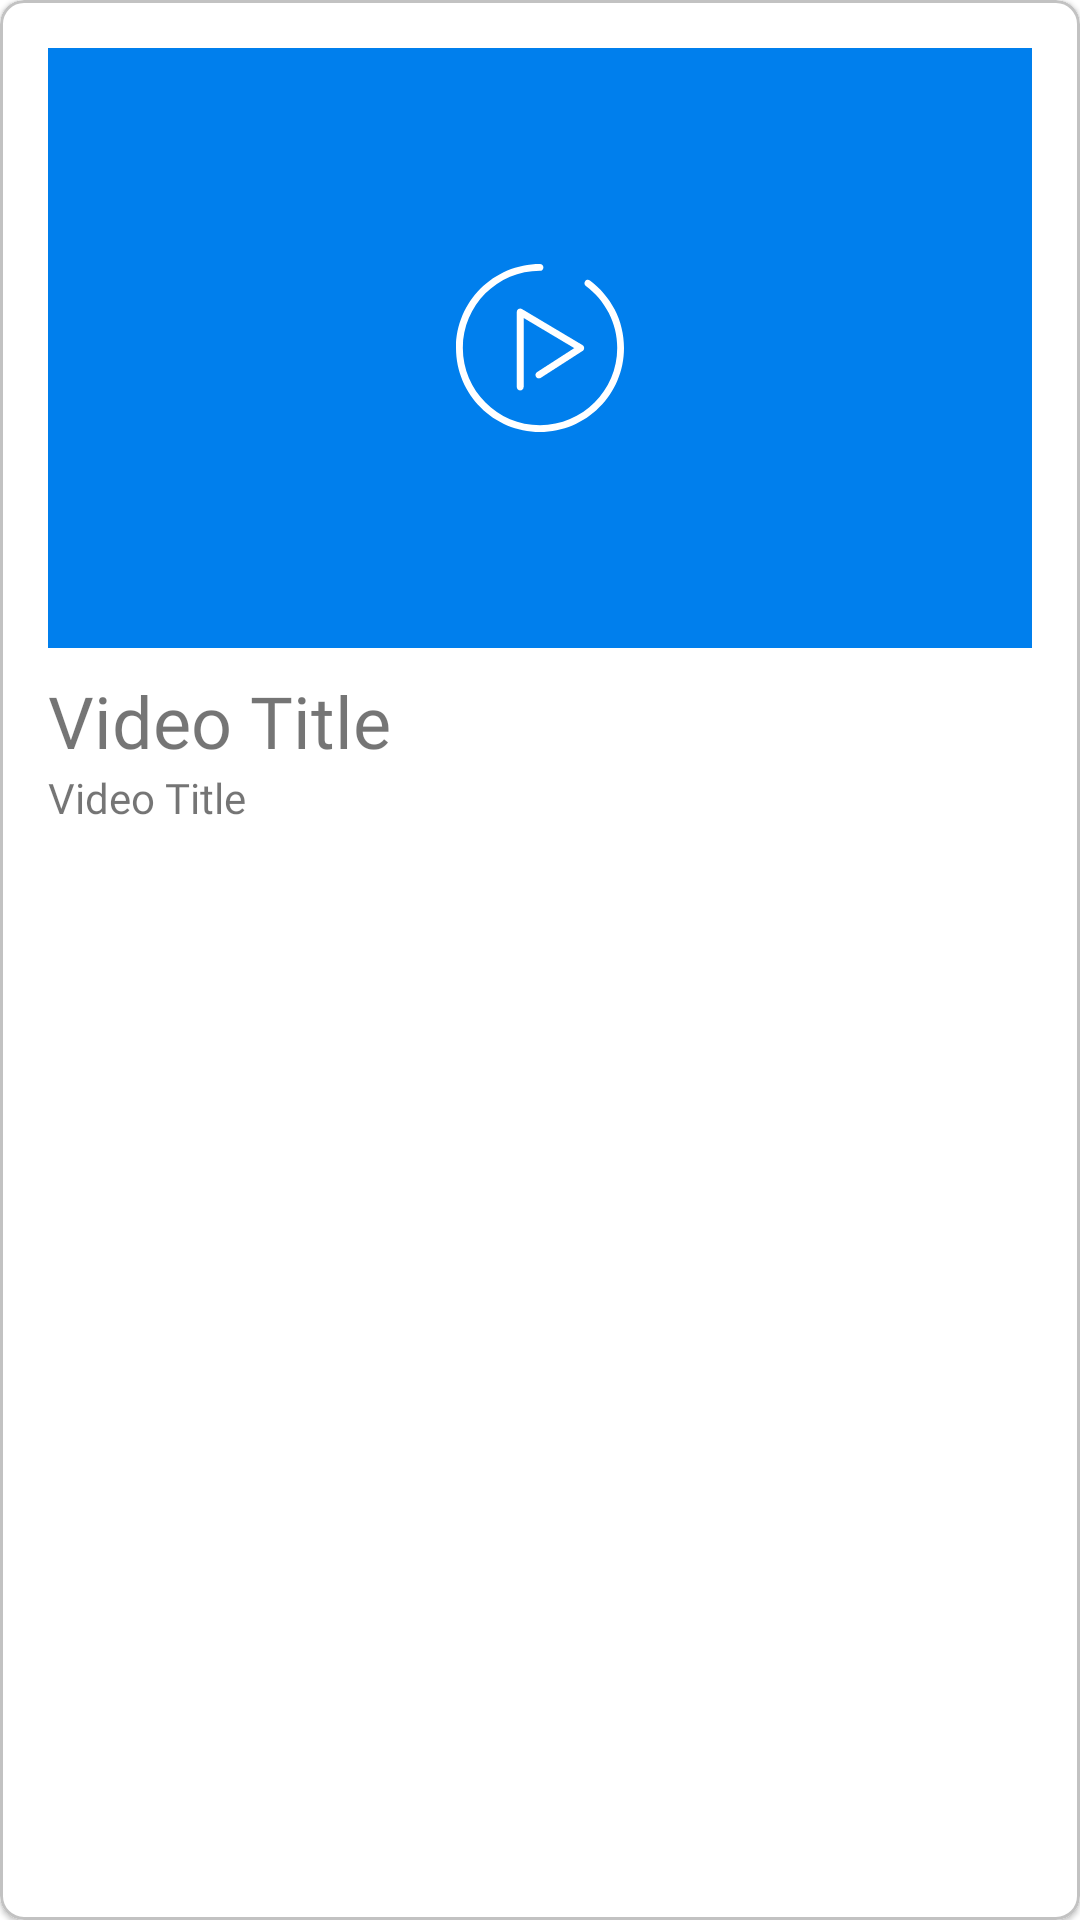

Icons on this 1080×1920 Android screen, each with the point to tap as [x,y]:
play: [540,348]
